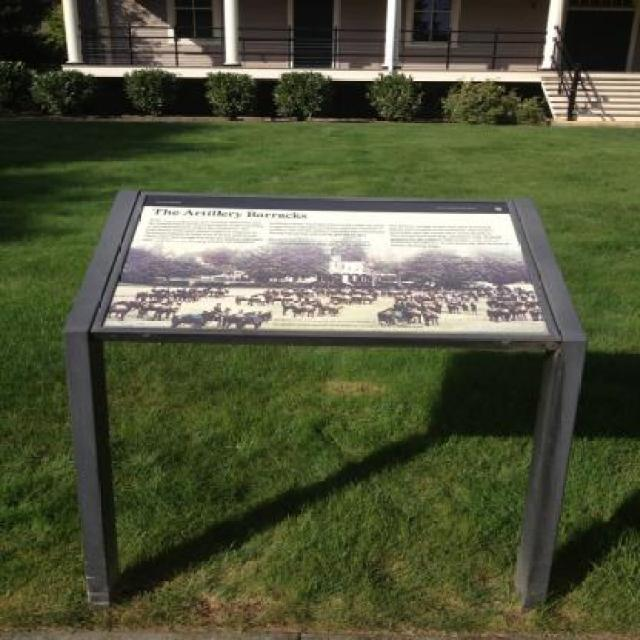stair: (540, 72, 640, 125)
